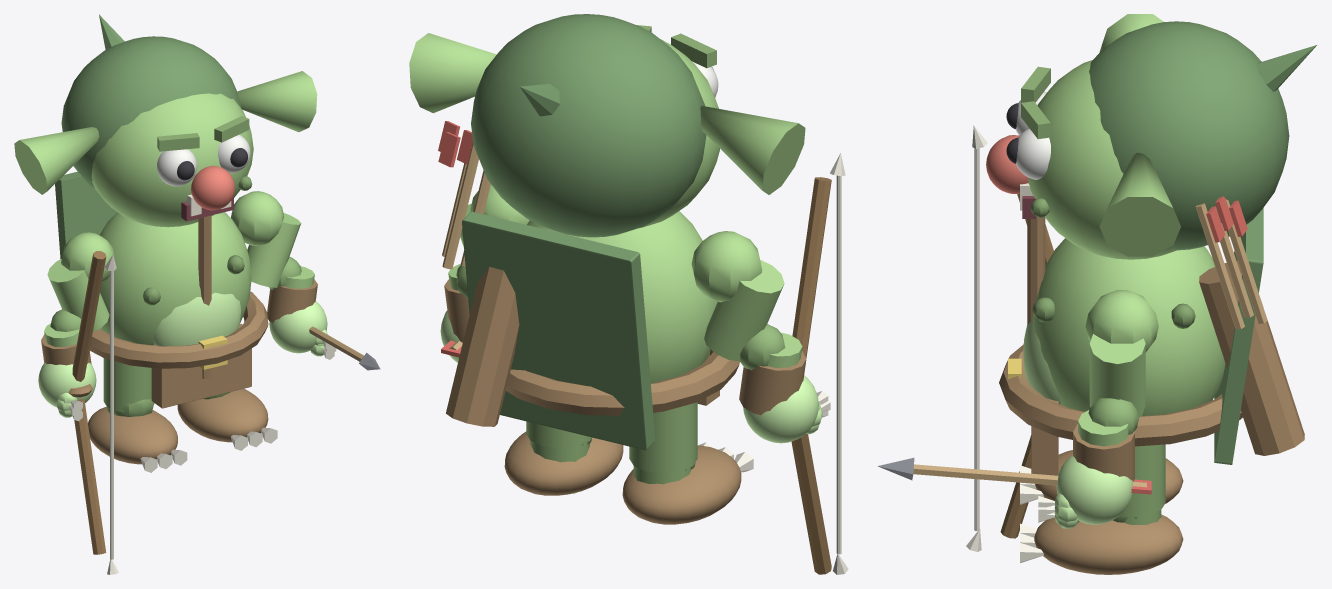
Rendered from troll_archer.glb.
The picture shows the model from 3 angles, left to right: view 1: azimuth 30°, elevation 25°; view 2: azimuth 150°, elevation 25°; view 3: azimuth 270°, elevation 25°; orthographic projection. The views are drawn at different scales.
Parts seen in each view (by area): view 1: Archer_Body.004, Archer_Hood, Archer_Head.004, Archer_Belt.004, Archer_Foot.008, Archer_Cloth.004, Archer_Foot.009, Archer_Ear.008, Archer_Ear.009, Archer_BellyPatch, Archer_Cloak, Archer_Shoulder.009 (+21 smaller); view 2: Archer_Hood, Archer_Cloak, Archer_Body.004, Archer_Quiver, Archer_Belt.004, Archer_Foot.008, Archer_Ear.008, Archer_Ear.009, Archer_Foot.009, Archer_UpperArm.008, Archer_Shoulder.008, Archer_Thigh.008 (+16 smaller); view 3: Archer_Hood, Archer_Body.004, Archer_Head.004, Archer_Quiver, Archer_Foot.009, Archer_Belt.004, Archer_Ear.009, Archer_Cloak, Archer_UpperArm.009, Archer_Hand.009, Archer_Shoulder.009, Archer_BowString.004 (+19 smaller).
Part boxes in pixels (box(x1,y1,x2,y2)): Archer_Body.004: box(100, 212, 251, 368); Archer_Hood: box(61, 36, 240, 188); Archer_Head.004: box(91, 93, 253, 227); Archer_Belt.004: box(89, 291, 268, 368); Archer_Foot.008: box(88, 406, 177, 464); Archer_Cloth.004: box(151, 323, 251, 408); Archer_Foot.009: box(177, 388, 268, 442); Archer_Ear.008: box(14, 127, 99, 194); Archer_Ear.009: box(237, 71, 317, 132); Archer_BellyPatch: box(153, 292, 241, 346); Archer_Cloak: box(55, 171, 117, 259); Archer_Shoulder.009: box(231, 191, 284, 246); Archer_Hood: box(471, 14, 706, 237); Archer_Cloak: box(462, 211, 655, 450); Archer_Body.004: box(527, 211, 717, 383); Archer_Quiver: box(446, 266, 519, 426); Archer_Belt.004: box(505, 349, 739, 415); Archer_Foot.008: box(622, 445, 741, 524); Archer_Ear.008: box(700, 105, 805, 194); Archer_Ear.009: box(409, 33, 496, 113); Archer_Foot.009: box(504, 431, 623, 495); Archer_UpperArm.008: box(704, 260, 784, 361); Archer_Shoulder.008: box(691, 231, 762, 302); Archer_Thigh.008: box(629, 402, 697, 473); Archer_Hood: box(1089, 21, 1289, 250); Archer_Body.004: box(1033, 238, 1225, 416); Archer_Head.004: box(1028, 60, 1176, 259); Archer_Quiver: box(1199, 261, 1304, 455); Archer_Foot.009: box(1034, 514, 1183, 574); Archer_Belt.004: box(999, 344, 1242, 446); Archer_Ear.009: box(1099, 152, 1180, 256); Archer_Cloak: box(1214, 208, 1263, 464); Archer_UpperArm.009: box(1089, 334, 1145, 417); Archer_Hand.009: box(1056, 455, 1132, 524); Archer_Shoulder.009: box(1085, 290, 1158, 352); Archer_BowString.004: box(974, 148, 979, 530).
Size of the model in its own units: 0.9541 by 1.44 by 0.9709.
